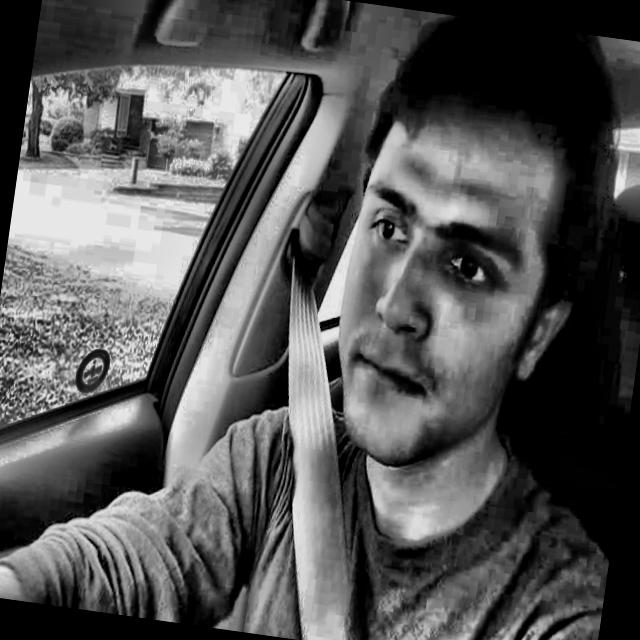closed_mouth: (338, 336, 448, 422)
open_eyes: (432, 245, 501, 307), (353, 204, 416, 258)
